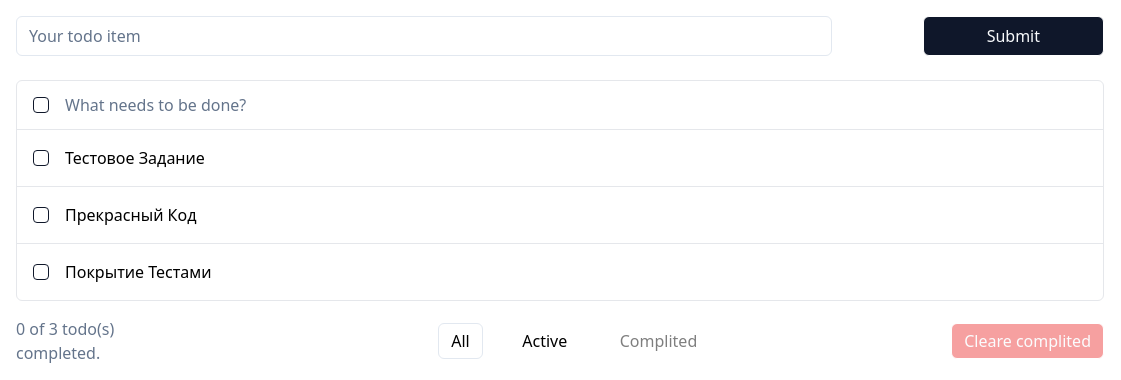
Test: Todo App › проверка отображения и удаления выполненой задачи
Click the checkbox named "Select row" next to "Тестовое задание": (41, 158) [33,150,49,166]
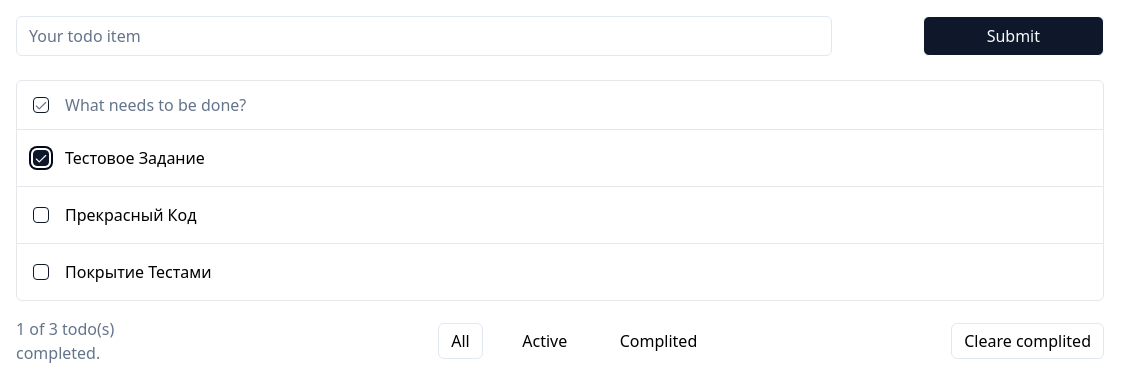
Expected: the text "1 of 3 todo(s) completed." is shown, [16,318,114,364]
Click the button "Complited": (659, 340) [607,322,710,358]
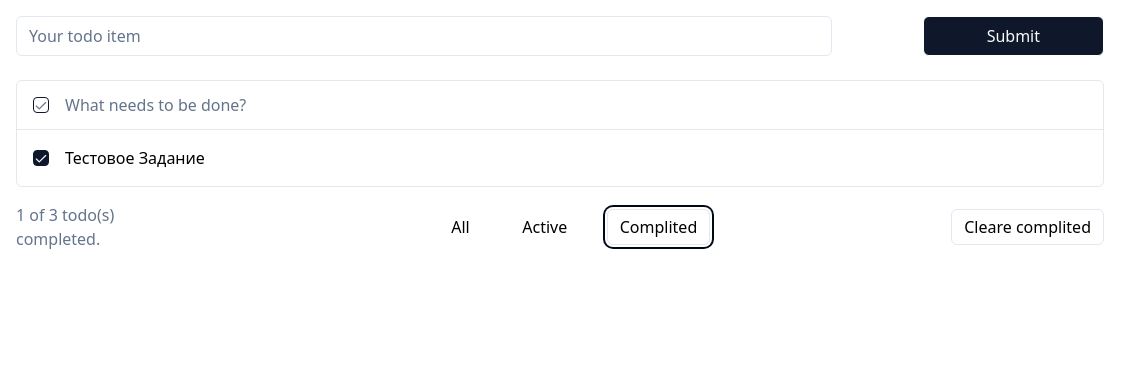
Expected: the text "Тестовое задание" is shown, [65,146,205,170]
Expected: the text "Прекрасный код" is gone
Expected: the text "Покрытие тестами" is gone
Click the button "All": (461, 226) [438,208,483,244]
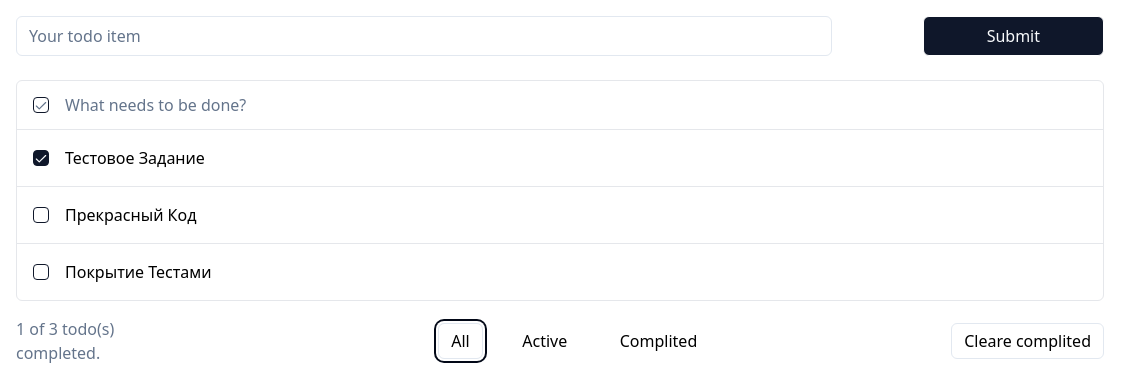
Click the button "Cleare complited": (1028, 340) [951,322,1104,358]
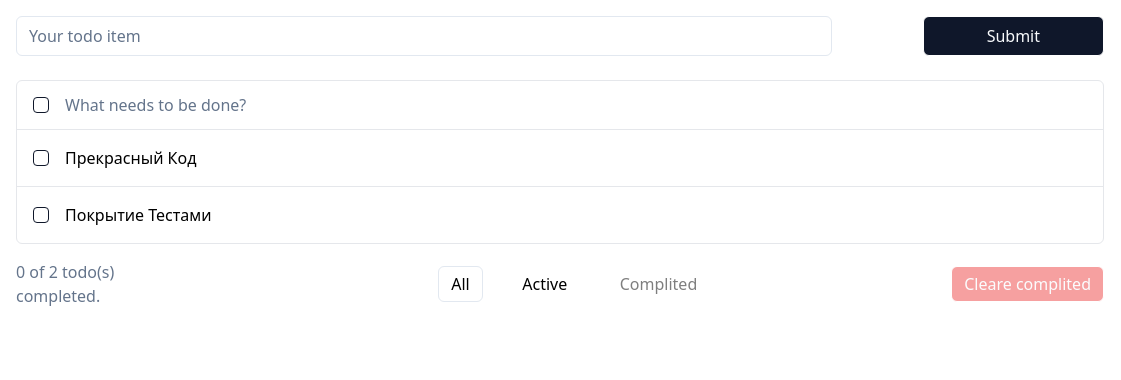
Expected: the text "Тестовое задание" is gone
Expected: the text "Прекрасный код" is shown, [65,146,196,170]
Expected: the text "Покрытие тестами" is shown, [65,202,212,226]
